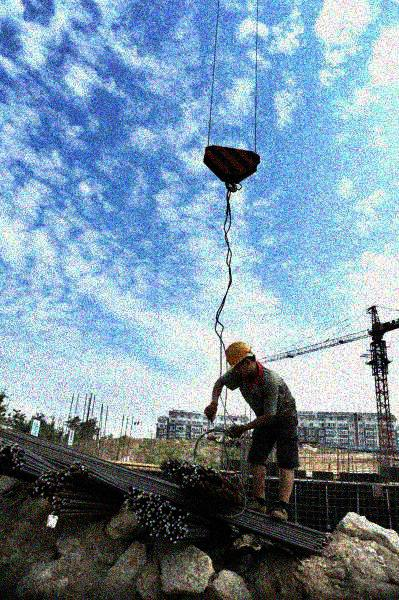helmet: (224, 341, 258, 381)
